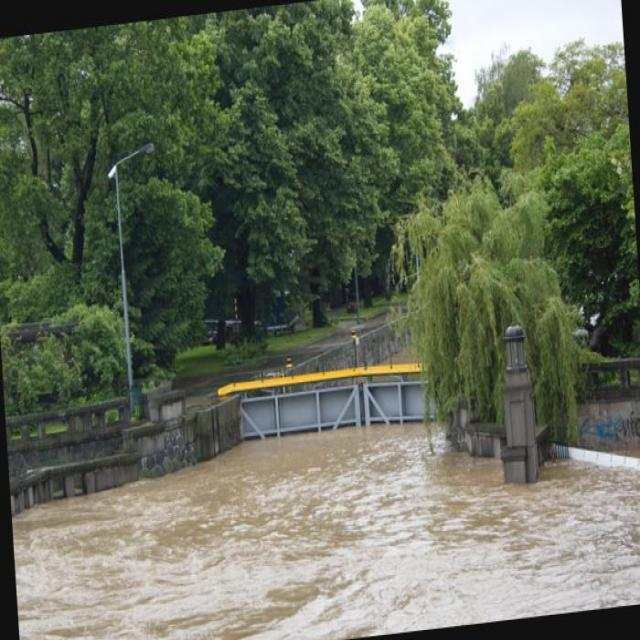flood: (9, 364, 639, 639)
